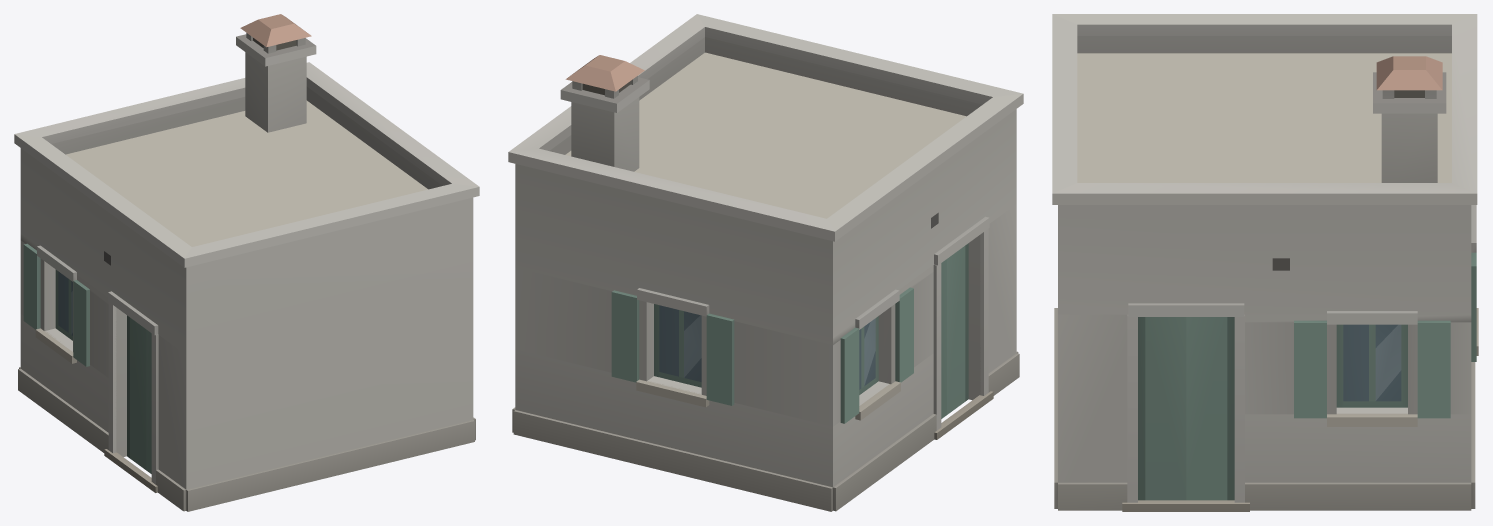
3 views of the same model, side by side, from view 1: azimuth 30°, elevation 25°; view 2: azimuth 150°, elevation 25°; view 3: azimuth 270°, elevation 25° (orthographic). The views are drawn at different scales.
Size of the model in its own units: 4.43 by 4.7 by 4.41.
